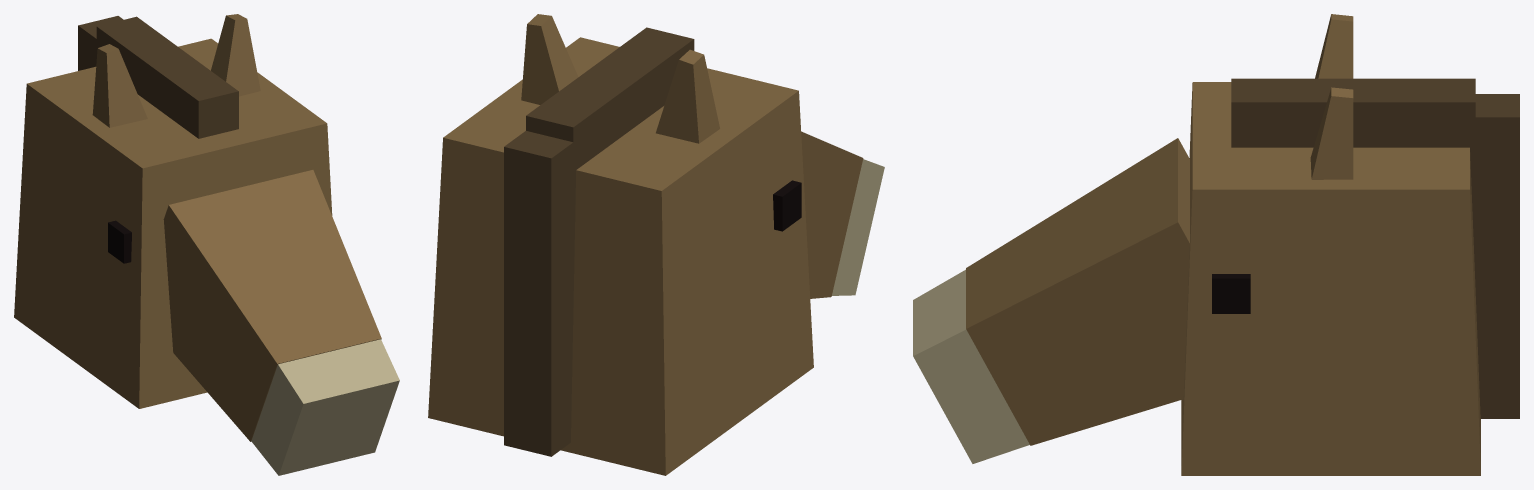
The model's file is gear_head_horse_mask.glb.
3 renders of one model, left to right at view 1: azimuth 30°, elevation 25°; view 2: azimuth 150°, elevation 25°; view 3: azimuth 270°, elevation 25°, orthographic. The views are drawn at different scales.
Parts seen in each view (by area): view 1: head; view 2: head; view 3: head.
Boxes of the visible parts, <box> form: head: <box>14,14,399,475</box>; head: <box>428,14,884,475</box>; head: <box>913,14,1519,475</box>.
Size of the model in its own units: 0.256 by 0.3806 by 0.5468.
